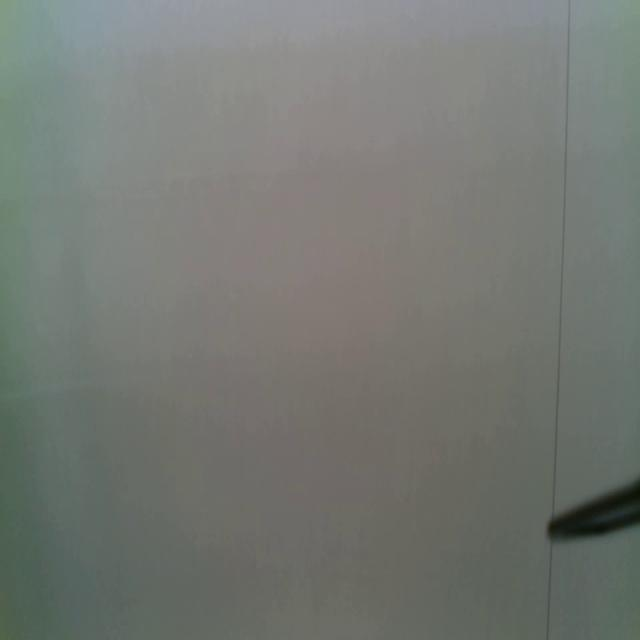crease: (551, 0, 573, 506), (546, 542, 554, 640)
